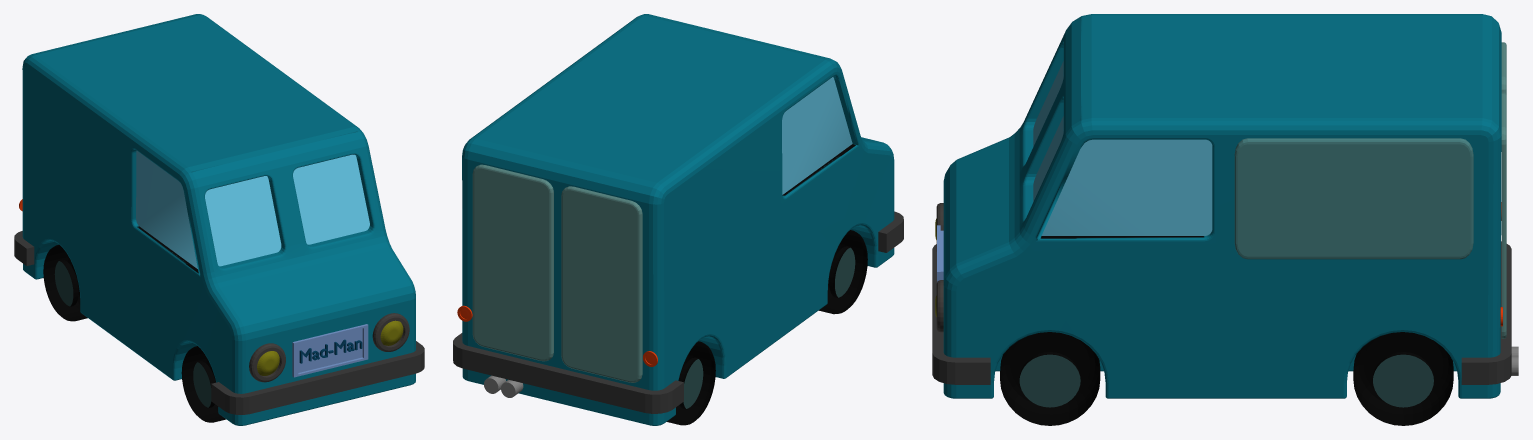
Rendered from Truck.fbx.
3 views of the same model, side by side, from view 1: azimuth 30°, elevation 25°; view 2: azimuth 150°, elevation 25°; view 3: azimuth 270°, elevation 25° (orthographic). The views are drawn at different scales.
Visible parts, largest first — view 1: body, gelgir, plate, lightFront, wheelsBack, wheelsFront, Text; view 2: body, backDoor, gelgir, wheelsFront, wheelsBack; view 3: body, backWindow, wheelsFront, wheelsBack, gelgir, backDoor, lightFront.
Boxes of the visible parts, bbox=[...] form: body: bbox=[22, 14, 415, 425]; gelgir: bbox=[14, 231, 424, 414]; plate: bbox=[292, 324, 368, 377]; lightFront: bbox=[249, 313, 409, 382]; wheelsBack: bbox=[43, 244, 87, 321]; wheelsFront: bbox=[181, 346, 226, 422]; Text: bbox=[299, 339, 362, 363]; body: bbox=[462, 14, 894, 425]; backDoor: bbox=[472, 164, 642, 382]; gelgir: bbox=[453, 211, 903, 413]; wheelsFront: bbox=[819, 230, 867, 314]; wheelsBack: bbox=[667, 341, 715, 425]; body: bbox=[943, 14, 1501, 398]; backWindow: bbox=[1234, 138, 1473, 259]; wheelsFront: bbox=[1000, 332, 1100, 425]; wheelsBack: bbox=[1353, 332, 1453, 425]; gelgir: bbox=[932, 241, 1511, 384]; backDoor: bbox=[1501, 42, 1506, 338]; lightFront: bbox=[935, 203, 943, 332].
Size of the model in its own units: 622 by 725 by 1252.
